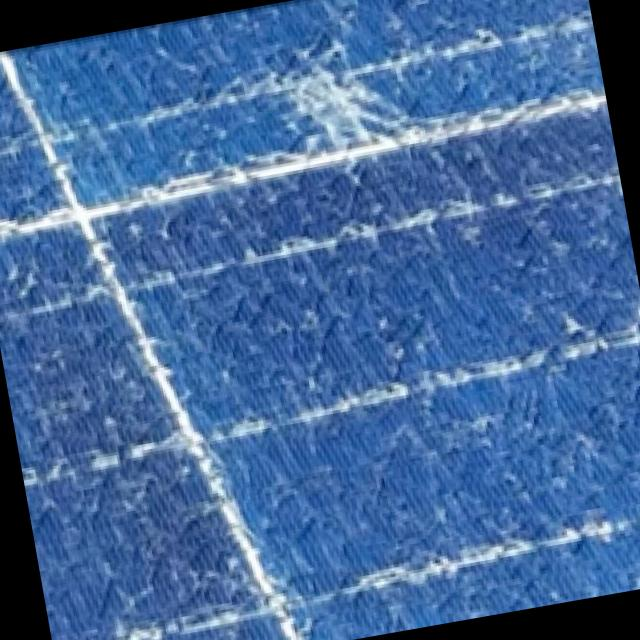faulty: (0, 0, 640, 640), (252, 25, 444, 196)
